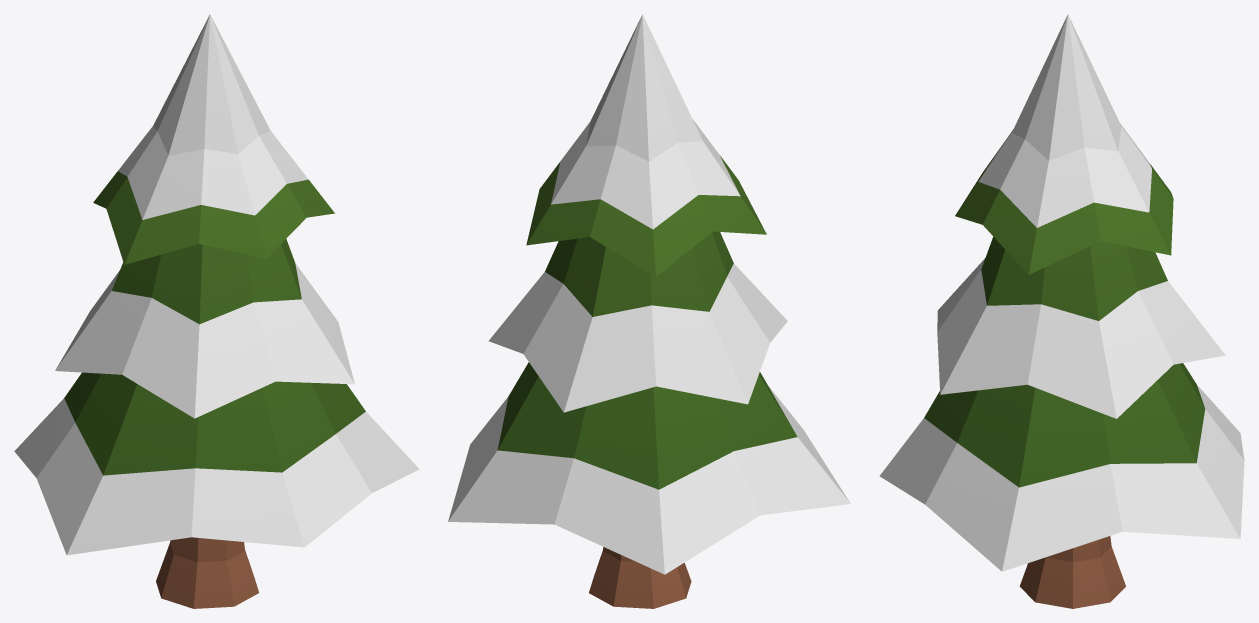
The model's file is fir tree winter medium.fbx.
The picture shows the model from 3 angles, left to right: view 1: azimuth 30°, elevation 25°; view 2: azimuth 150°, elevation 25°; view 3: azimuth 270°, elevation 25°; orthographic projection.
Visible parts, largest first — view 1: fir tree winter medium; view 2: fir tree winter medium; view 3: fir tree winter medium.
Boxes of the visible parts, x1=… form: fir tree winter medium: x1=14, y1=14, x2=419, y2=608; fir tree winter medium: x1=448, y1=14, x2=850, y2=608; fir tree winter medium: x1=879, y1=14, x2=1244, y2=608.
Size of the model in its own units: 336 by 523 by 302.
